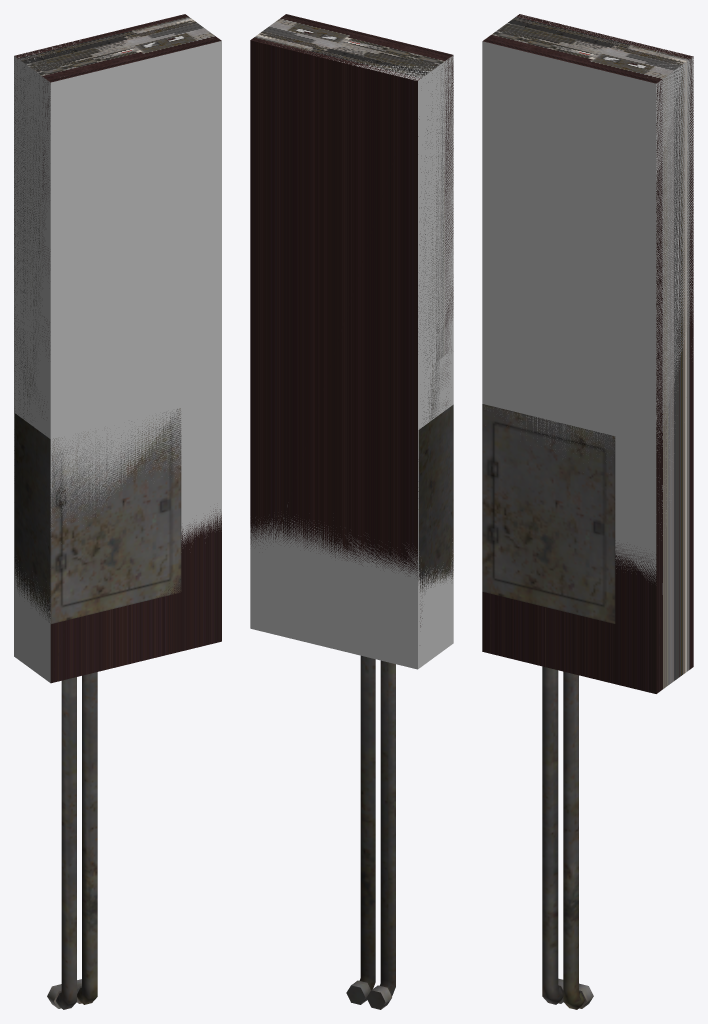
File: fuse_box_02.DAE
The picture shows the model from 3 angles, left to right: view 1: azimuth 30°, elevation 25°; view 2: azimuth 150°, elevation 25°; view 3: azimuth 330°, elevation 25°; orthographic projection. The views are drawn at different scales.
Parts seen in each view (by area): view 1: bounds, fuse_box_two, colbox-01; view 2: colbox-01, bounds, fuse_box_two; view 3: bounds, colbox-01, fuse_box_two.
Boxes of the visible parts, bbox=[...] form: bounds: bbox=[14, 40, 221, 682]; fuse_box_two: bbox=[15, 408, 181, 1009]; colbox-01: bbox=[14, 14, 221, 683]; colbox-01: bbox=[250, 14, 453, 627]; bounds: bbox=[250, 46, 453, 669]; fuse_box_two: bbox=[346, 404, 453, 1009]; bounds: bbox=[482, 15, 693, 581]; colbox-01: bbox=[482, 14, 693, 693]; fuse_box_two: bbox=[482, 404, 615, 1009].
Bounding box in the file's own units: 76.87 × 28.5 × 411.
